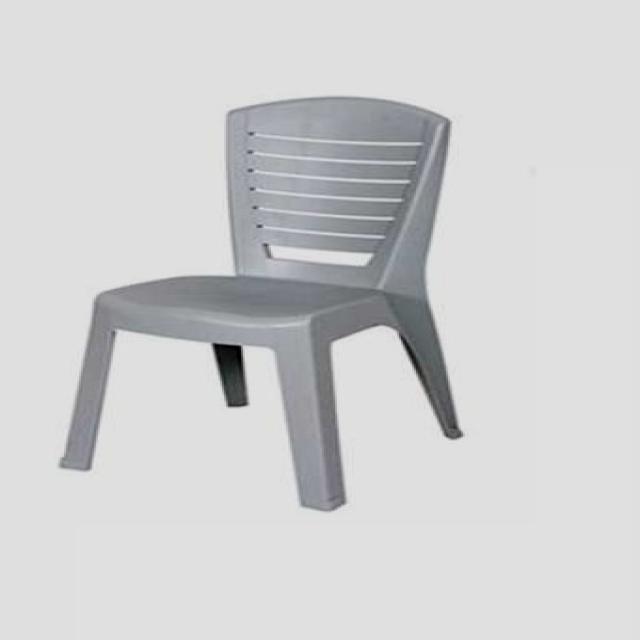Chair: (50, 93, 488, 519)
